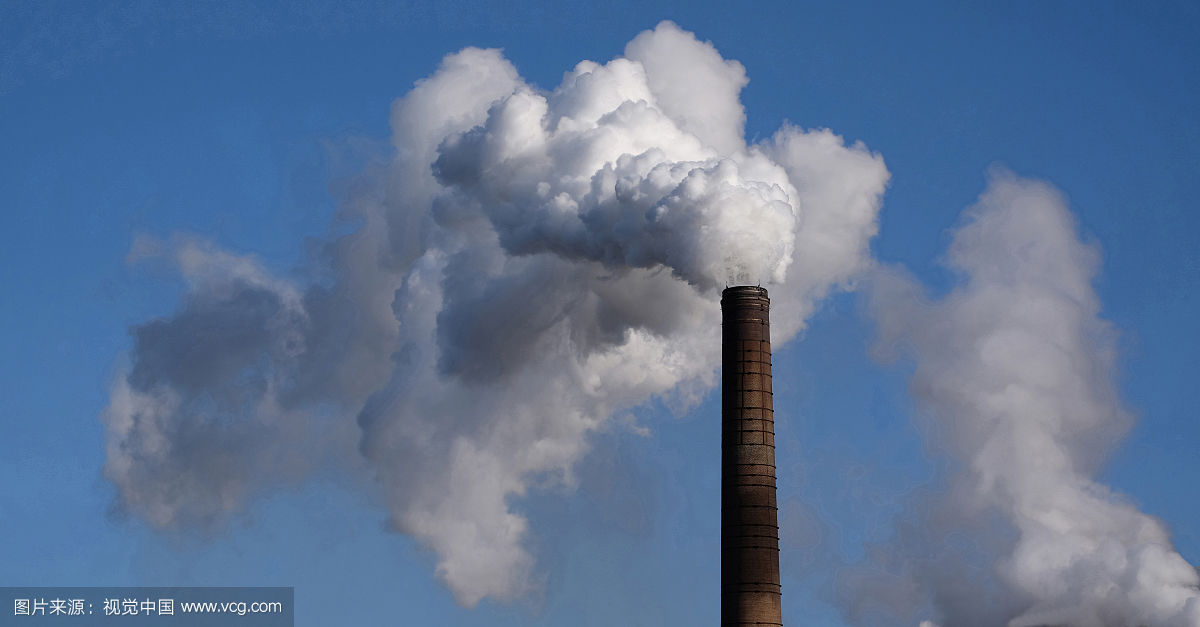dust: (450, 80, 814, 325)
